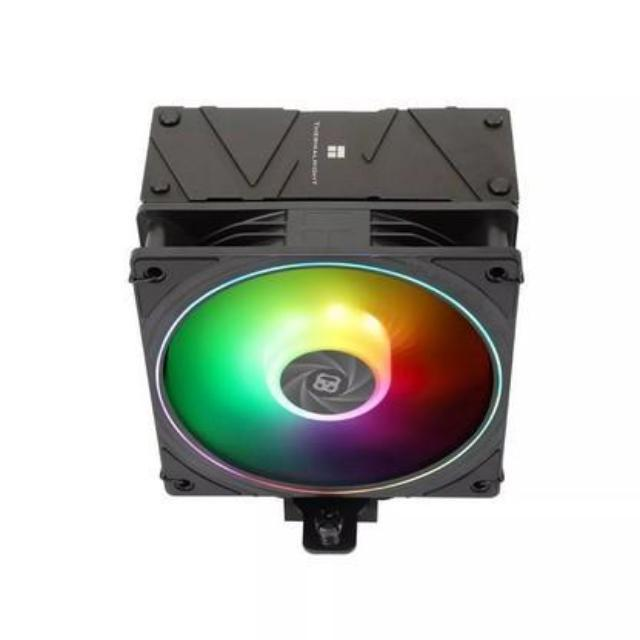CPU_Fan: (126, 93, 534, 570)
